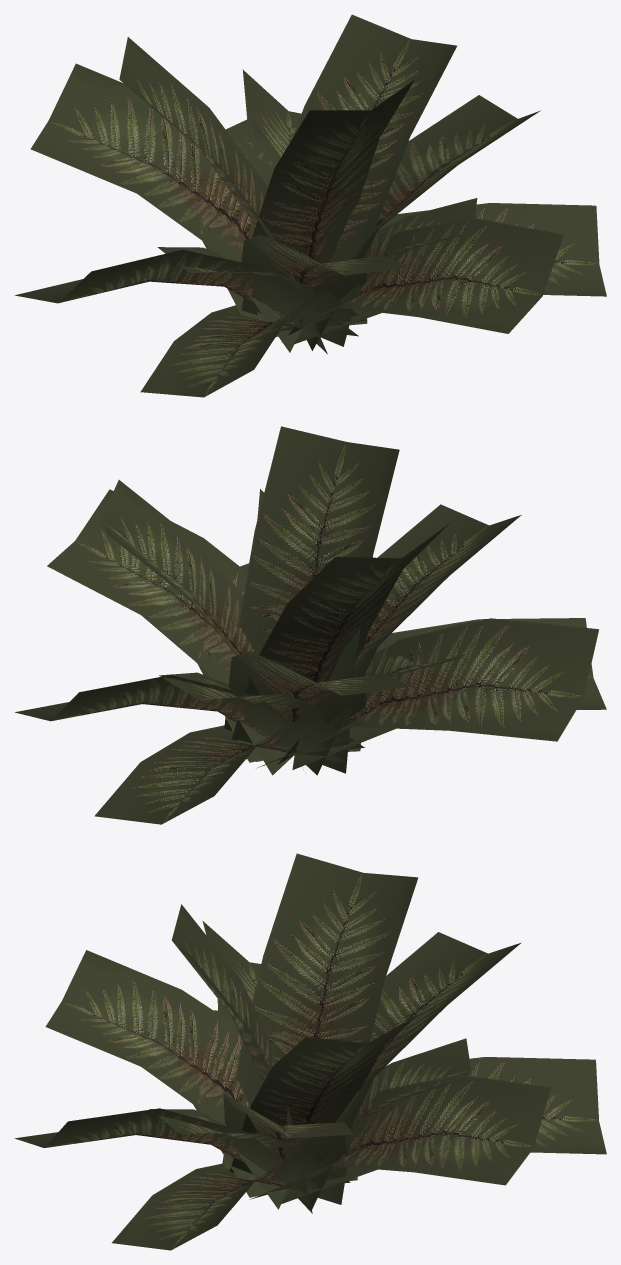
Rendered from foliage_fern_02_mesh.FBX.
3 renders of one model, top to bottom at view 1: azimuth 30°, elevation 25°; view 2: azimuth 150°, elevation 25°; view 3: azimuth 270°, elevation 25°, orthographic. The views are drawn at different scales.
Parts seen in each view (by area): view 1: foliage_fern_2; view 2: foliage_fern_2; view 3: foliage_fern_2.
Part boxes in pixels (x1,y1,x2,y2): foliage_fern_2: (14,14,606,397); foliage_fern_2: (15,426,606,824); foliage_fern_2: (14,853,606,1250).
Size of the model in its own units: 1164 by 568 by 1164.
